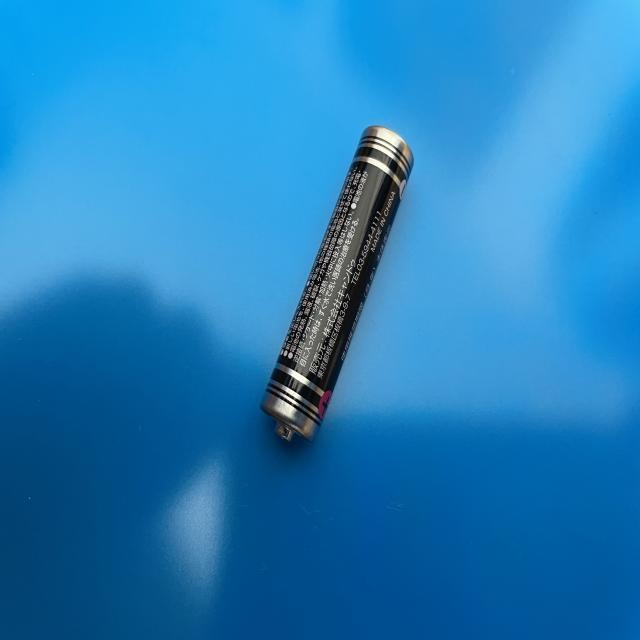AAA: (260, 122, 414, 448)
